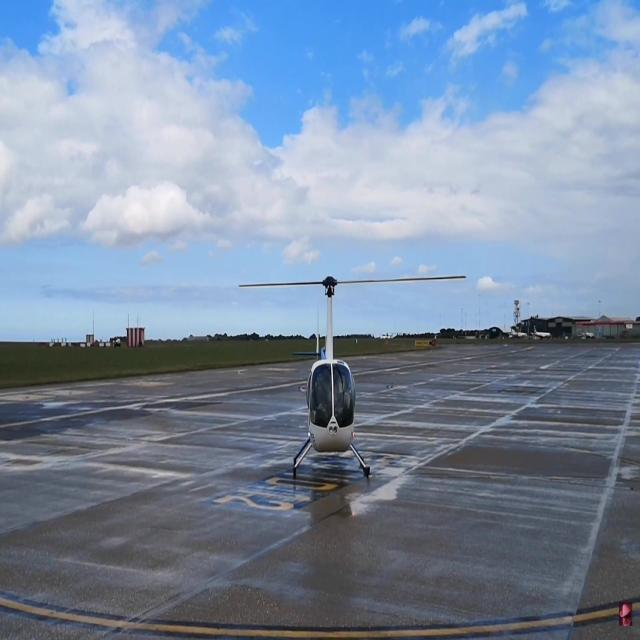CIV_HELO: (290, 274, 372, 482)
